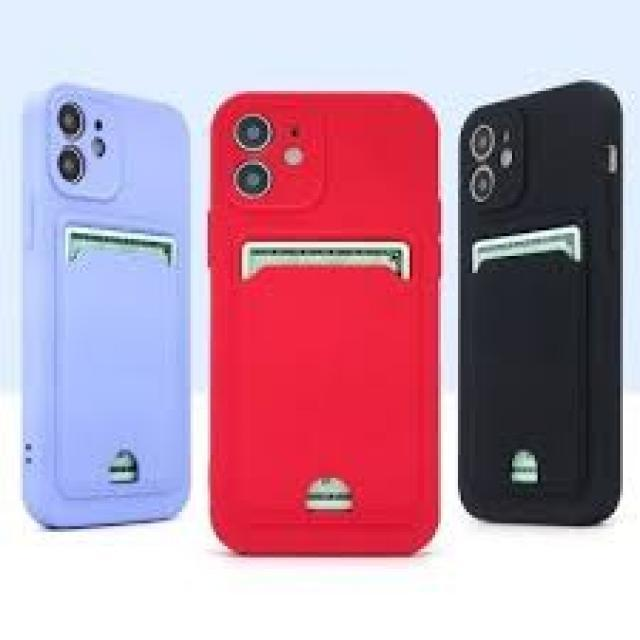phone: (205, 84, 446, 558), (18, 86, 197, 534), (462, 80, 618, 534)
